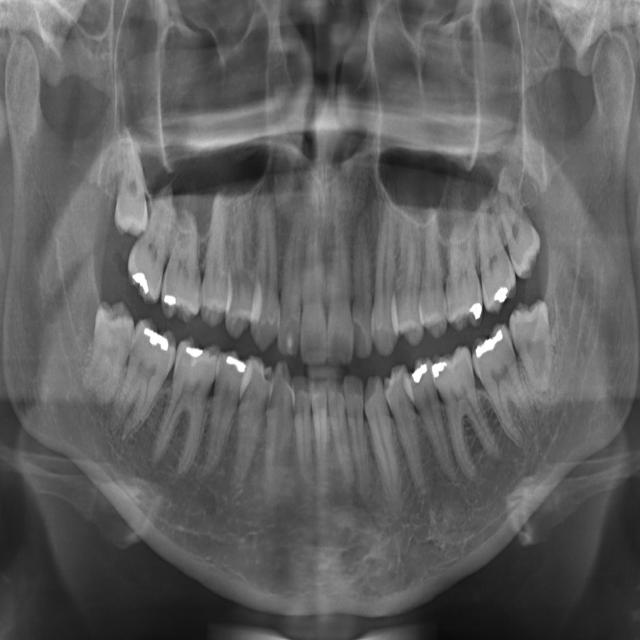AmalgamRestoration: (473, 325, 505, 369), (143, 324, 173, 362), (223, 356, 248, 381), (132, 264, 150, 297), (187, 342, 206, 368), (411, 359, 430, 385), (494, 283, 511, 308), (468, 298, 486, 318), (432, 359, 448, 381), (165, 292, 178, 306)
ImpactedTooth: (511, 283, 555, 393), (102, 135, 147, 236), (96, 298, 134, 396)
